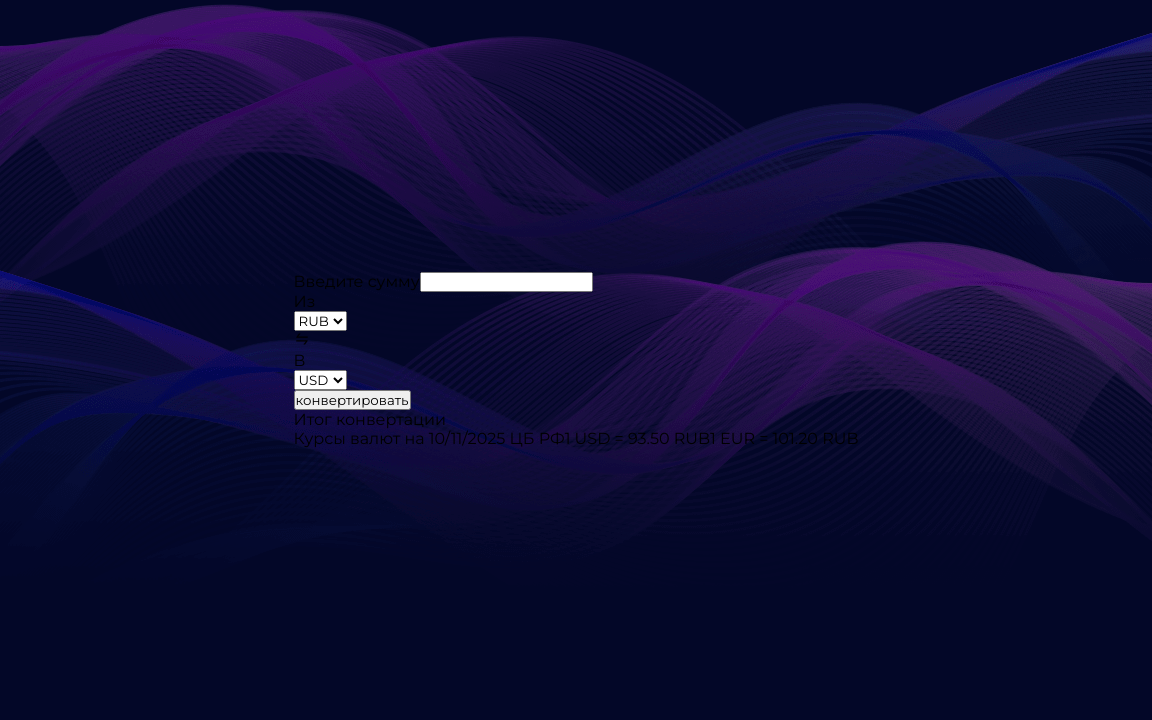
ConverterForm › правильно конвертирует RUB в USD
The width and height of the screenshot is (1152, 720).
Expected: the text "1 USD = 93.50 RUB" is shown, 565,429 -> 710,448
Note: Используем data-testid вместо getByLabelText
Step 1. Type "1000" into the number field → (506, 282), box 420,272 -> 593,292
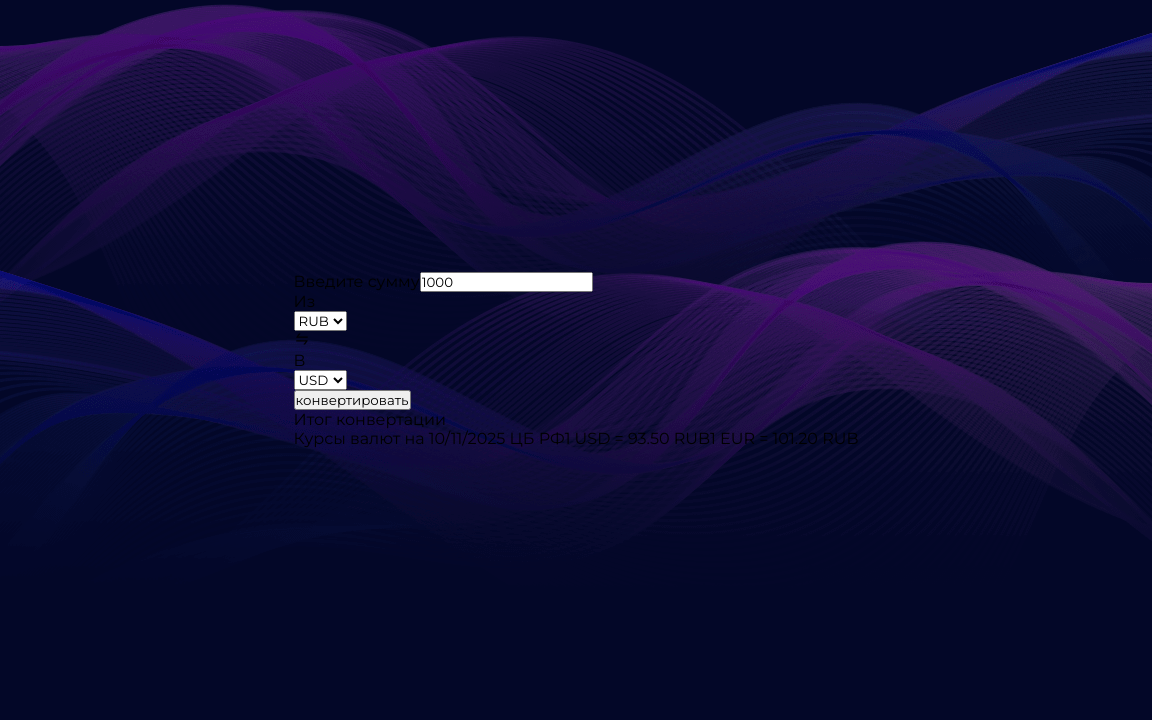
Step 2. Click the button "конвертировать" → click(352, 400), box 294,390 -> 410,410
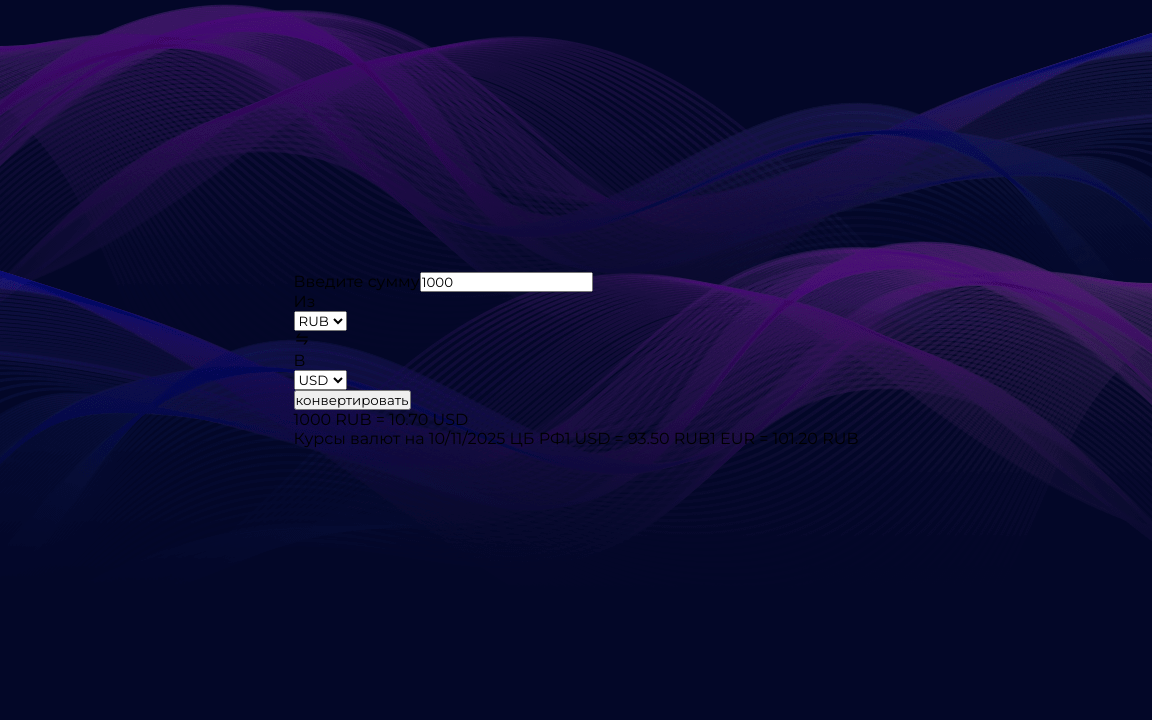
Expected: the text "1000 RUB = 10.70 USD" is shown, 294,410 -> 468,429
